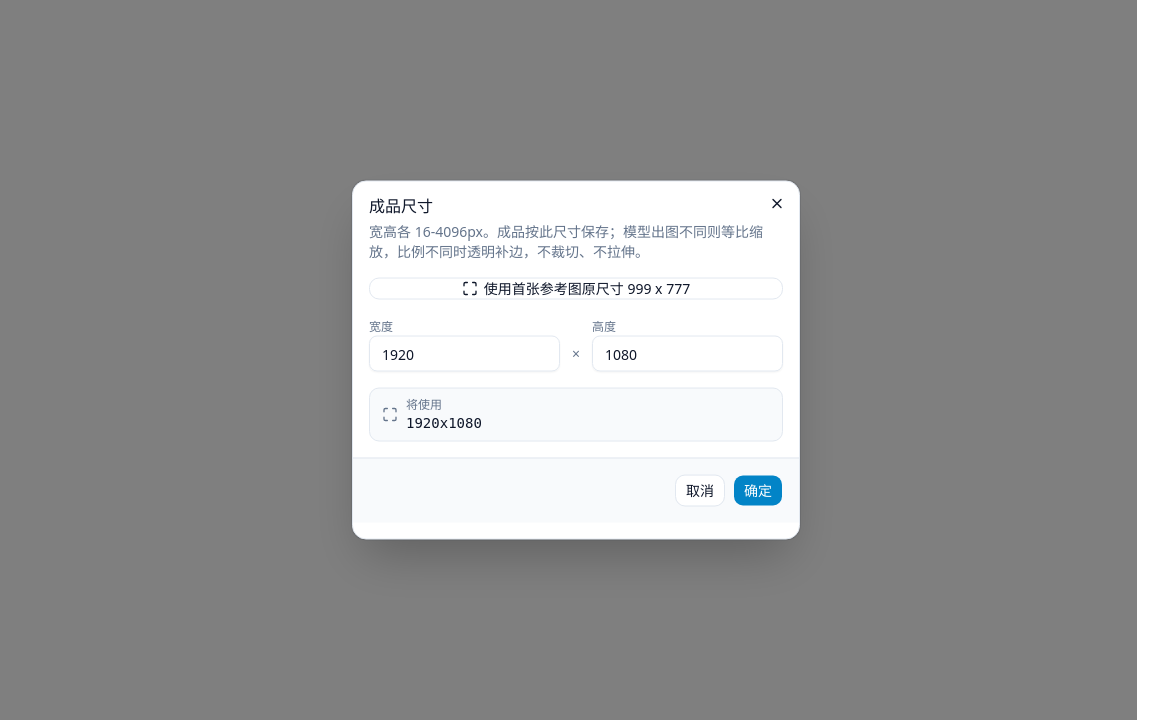
Test: exact output dimensions › keeps non-multiple dimensions unchanged and applies the original reference dimensions
Later steps or results of the test are not shown.
Expected: the number field labelled "高度" holds "1080", [592, 336, 783, 372]
Click the button "使用首张参考图原尺寸 999 x 777" at (576, 288), box [369, 278, 783, 300]
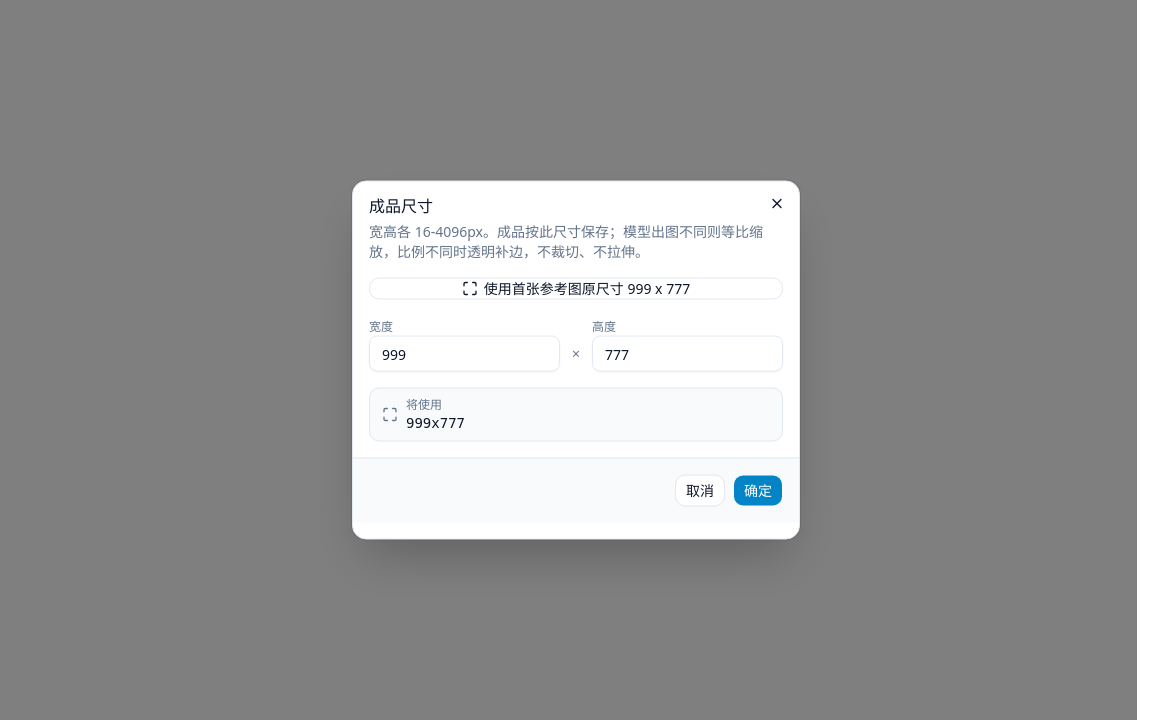
Expected: the number field labelled "宽度" holds "999", [369, 336, 560, 372]
Expected: the number field labelled "高度" holds "777", [592, 336, 783, 372]
